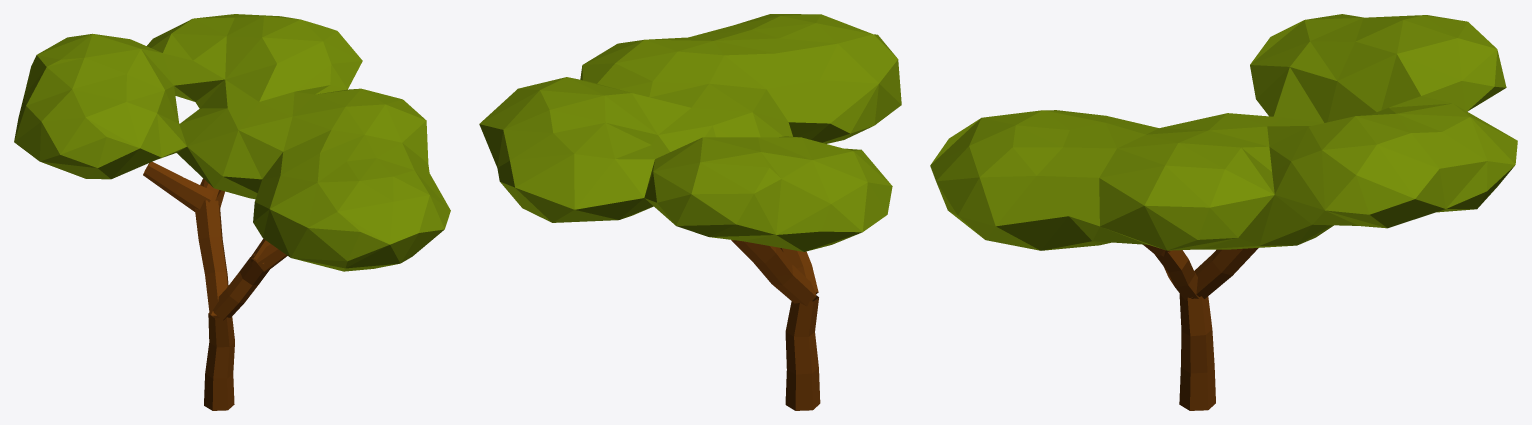
Rendered from SM__Savanna__Tree__Growth__1.fbx.
3 renders of one model, left to right at view 1: azimuth 30°, elevation 25°; view 2: azimuth 150°, elevation 25°; view 3: azimuth 270°, elevation 25°, orthographic. The views are drawn at different scales.
Visible parts, largest first — view 1: normal9; view 2: normal9; view 3: normal9.
Part boxes in pixels (<box>): normal9: <box>14,14,450,410</box>; normal9: <box>479,14,901,410</box>; normal9: <box>930,14,1517,410</box>.
Bounding box in the file's own units: 2.59 × 2.24 × 3.35.
